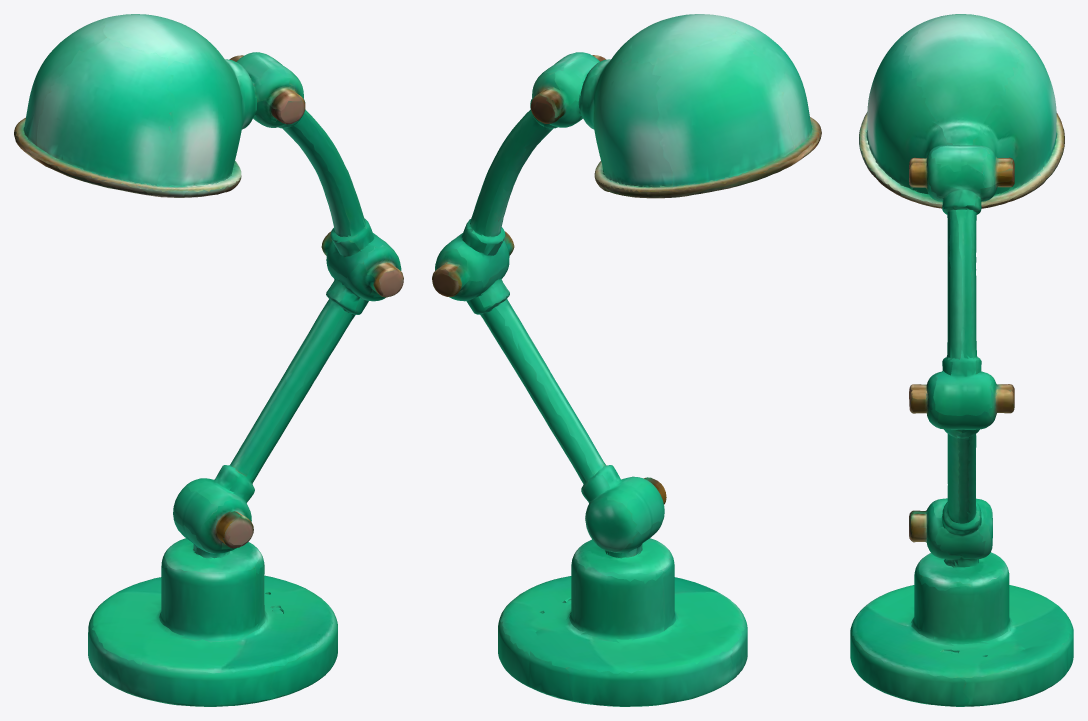
The model's file is lamp.o2.glb.
3 renders of one model, left to right at view 1: azimuth 30°, elevation 25°; view 2: azimuth 150°, elevation 25°; view 3: azimuth 270°, elevation 25°, orthographic. The views are drawn at different scales.
Visible parts, largest first — view 1: geometry_0; view 2: geometry_0; view 3: geometry_0.
Boxes of the visible parts, bbox=[...] form: geometry_0: bbox=[14, 14, 403, 706]; geometry_0: bbox=[432, 14, 821, 706]; geometry_0: bbox=[850, 14, 1073, 706].
Bounding box in the file's own units: 0.2573 × 0.45 × 0.1507.
Materials: 1 (1 with a texture image).
